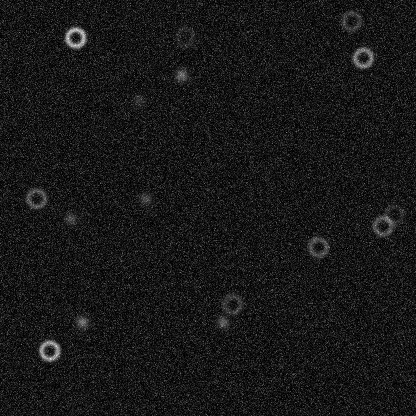Ring: (63, 25, 87, 49), (339, 8, 363, 32), (370, 213, 394, 237), (37, 338, 61, 362), (220, 292, 244, 316), (24, 186, 48, 210), (306, 235, 330, 259), (350, 45, 374, 69), (173, 24, 197, 48), (382, 202, 406, 226)
Spot: (62, 210, 78, 226), (173, 67, 189, 83), (130, 92, 146, 108), (74, 314, 90, 330), (214, 313, 230, 329), (137, 190, 153, 206)
